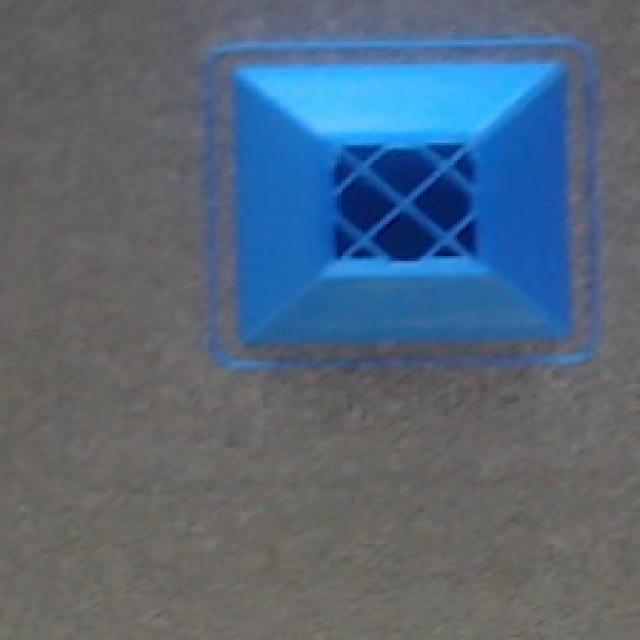noMistake: (230, 62, 573, 350)
